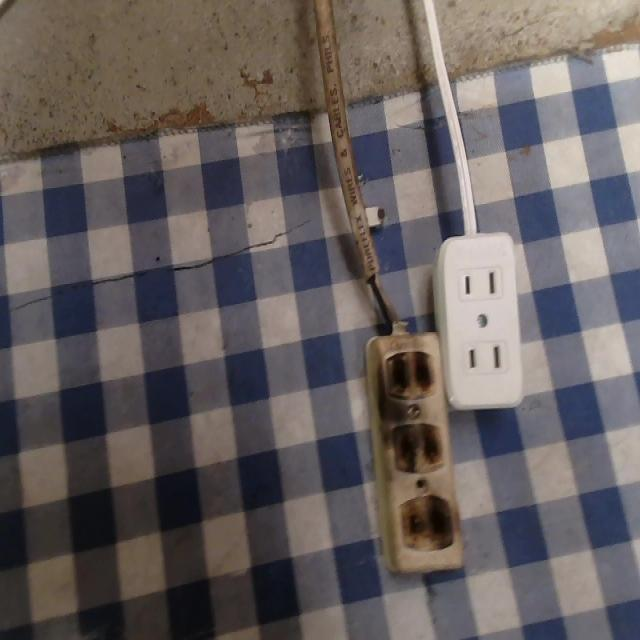-: (395, 493, 456, 548), (389, 417, 442, 475), (383, 348, 440, 399)
